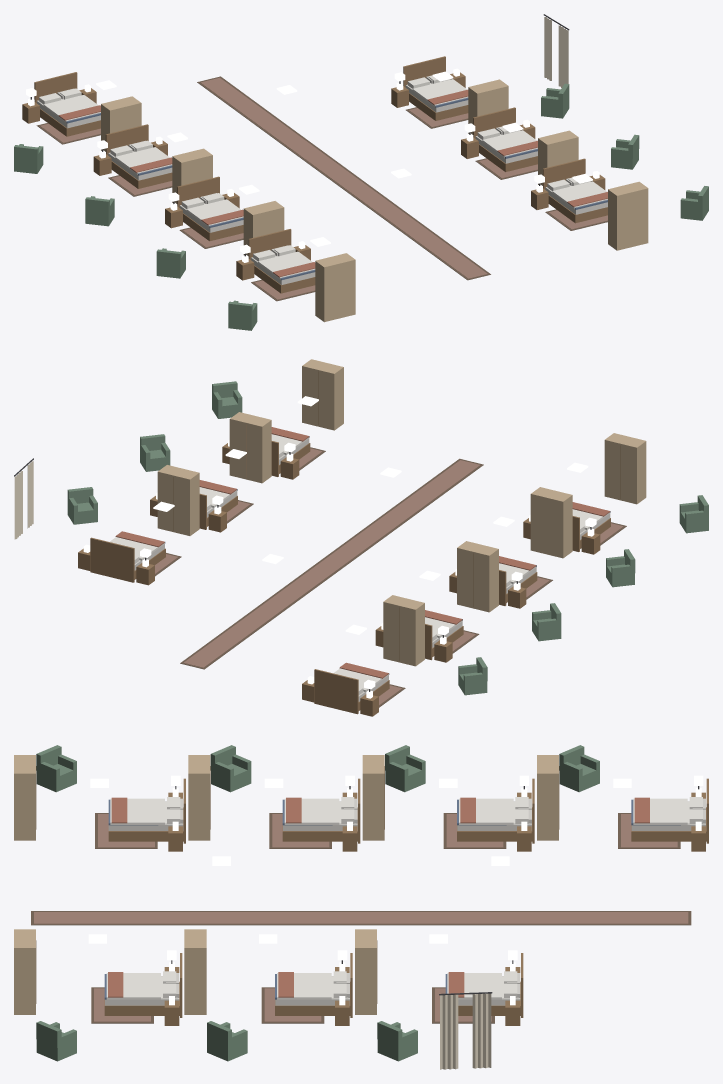
The model's file is fine-s2.glb.
3 renders of one model, top to bottom at view 1: azimuth 30°, elevation 25°; view 2: azimuth 150°, elevation 25°; view 3: azimuth 270°, elevation 25°, orthographic. The views are drawn at different scales.
Parts seen in each view (by area): view 1: soft-s2, dresser.009, dresser.013, bed-frame.013, bed-frame.011, bed-frame.010, bed-frame.012, bed-frame.007, bed-frame.009, bed-frame.008, dresser.012, dresser.011 (+10 smaller); view 2: soft-s2, dresser.012, dresser.013, dresser.010, dresser.011, dresser.007, dresser.008, dresser.009, bed-frame.007, bed-frame.010, lounge-chair.007, lounge-chair.008 (+10 smaller); view 3: soft-s2, dresser.008, dresser.011, dresser.012, dresser.007, dresser.009, dresser.010, dresser.013, lounge-chair.012, lounge-chair.010, lounge-chair.013, lounge-chair.011 (+10 smaller).
Part boxes in pixels (left/top/right/bottom): soft-s2: left=26, top=14, right=607, bottom=301; dresser.009: left=608, top=181, right=648, bottom=250; dresser.013: left=315, top=253, right=355, bottom=322; bed-frame.013: left=248, top=229, right=315, bottom=293; bed-frame.011: left=105, top=124, right=172, bottom=188; bed-frame.010: left=34, top=72, right=100, bottom=136; bed-frame.012: left=177, top=176, right=243, bottom=241; bed-frame.007: left=403, top=56, right=468, bottom=120; bed-frame.009: left=543, top=158, right=607, bottom=223; bed-frame.008: left=473, top=107, right=537, bottom=171; dresser.012: left=243, top=201, right=284, bottom=256; dresser.011: left=172, top=148, right=212, bottom=203; soft-s2: left=14, top=427, right=626, bottom=707; dresser.012: left=530, top=487, right=572, bottom=558; dresser.013: left=604, top=433, right=646, bottom=504; dresser.010: left=383, top=595, right=424, bottom=666; dresser.011: left=457, top=541, right=498, bottom=612; dresser.007: left=157, top=465, right=199, bottom=535; dresser.008: left=229, top=412, right=271, bottom=483; dresser.009: left=302, top=359, right=343, bottom=430; bed-frame.007: left=90, top=537, right=165, bottom=582; bed-frame.010: left=314, top=669, right=389, bottom=714; lounge-chair.007: left=67, top=487, right=97, bottom=524; lounge-chair.008: left=140, top=434, right=170, bottom=471; soft-s2: left=31, top=775, right=704, bottom=1069; dresser.008: left=184, top=929, right=206, bottom=1014; dresser.011: left=362, top=755, right=384, bottom=840; dresser.012: left=188, top=755, right=210, bottom=840; dresser.007: left=355, top=929, right=377, bottom=1014; dresser.009: left=14, top=929, right=36, bottom=1014; dresser.010: left=537, top=755, right=559, bottom=840; dresser.013: left=14, top=755, right=36, bottom=840; lounge-chair.012: left=210, top=745, right=251, bottom=792; lounge-chair.010: left=559, top=745, right=599, bottom=792; lounge-chair.013: left=36, top=745, right=76, bottom=792; lounge-chair.011: left=385, top=745, right=425, bottom=792.
Bounding box in the file's own units: 18.98 × 2.31 × 18.81.
